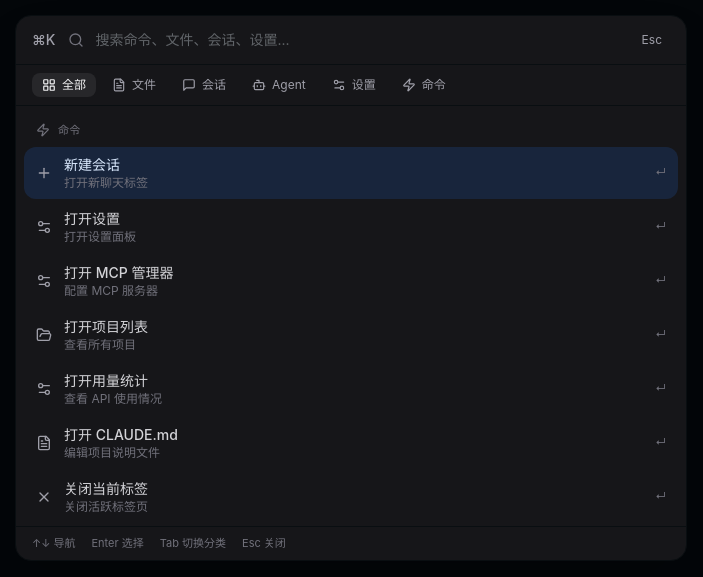
Scenario: CommandPalette Component › category tabs › clicking a category tab filters items
Click the button "设置". click: (354, 85)
box: [322, 73, 386, 97]
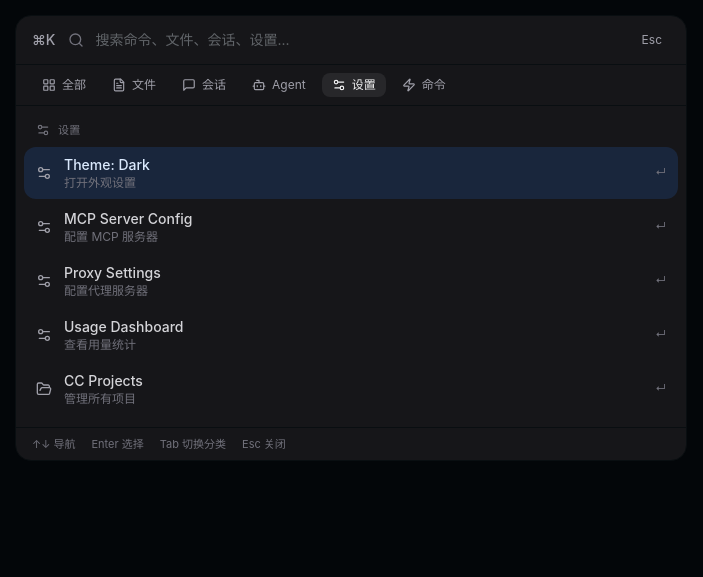
Expected: the text "Theme: Dark" is shown, [64, 154, 150, 174]
